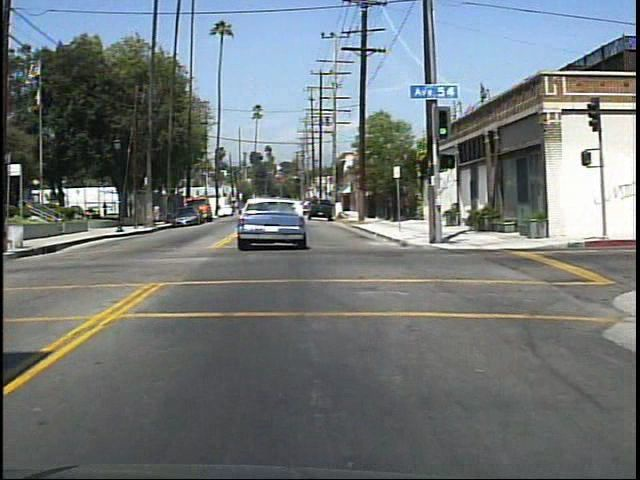person: (154, 201, 164, 227), (99, 199, 110, 220), (127, 198, 137, 221)
